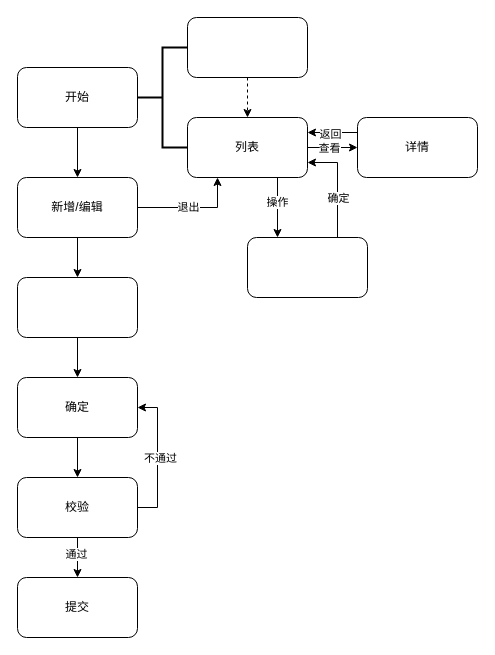
The diagram is 495 pixels wide and 655 high, and some of its shapes have lost their labels. The box of each missing label's shape, as (x1, y1, x2, y2) in pixels:
删除: (246, 236, 368, 298)
搜索: (186, 16, 308, 78)
编辑内容: (16, 276, 138, 338)
